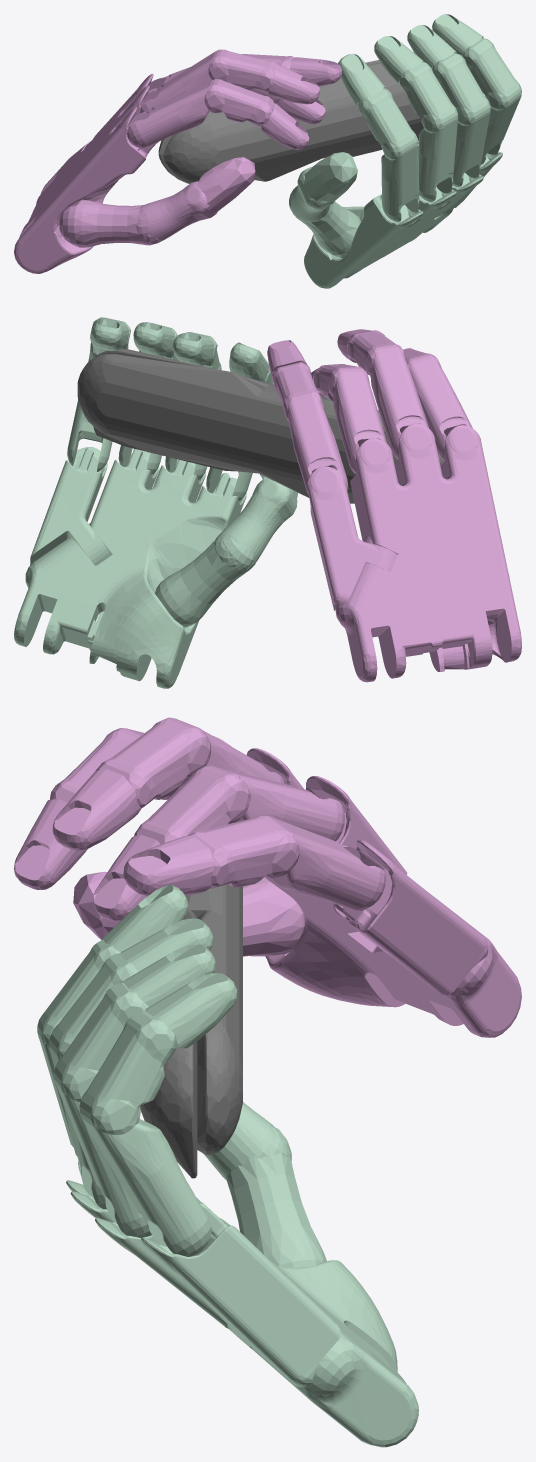
Rendered from FoodItem.glb.
3 views of the same model, one above another, from view 1: azimuth 30°, elevation 25°; view 2: azimuth 150°, elevation 25°; view 3: azimuth 270°, elevation 25° (orthographic). The views are drawn at different scales.
Visible parts, largest first — view 1: world; view 2: world; view 3: world.
Part boxes in pixels (bbox=[...]): world: bbox=[14, 14, 521, 288]; world: bbox=[14, 317, 521, 688]; world: bbox=[14, 717, 521, 1447].
Size of the model in its own units: 0.2731 by 0.1789 by 0.1539.
